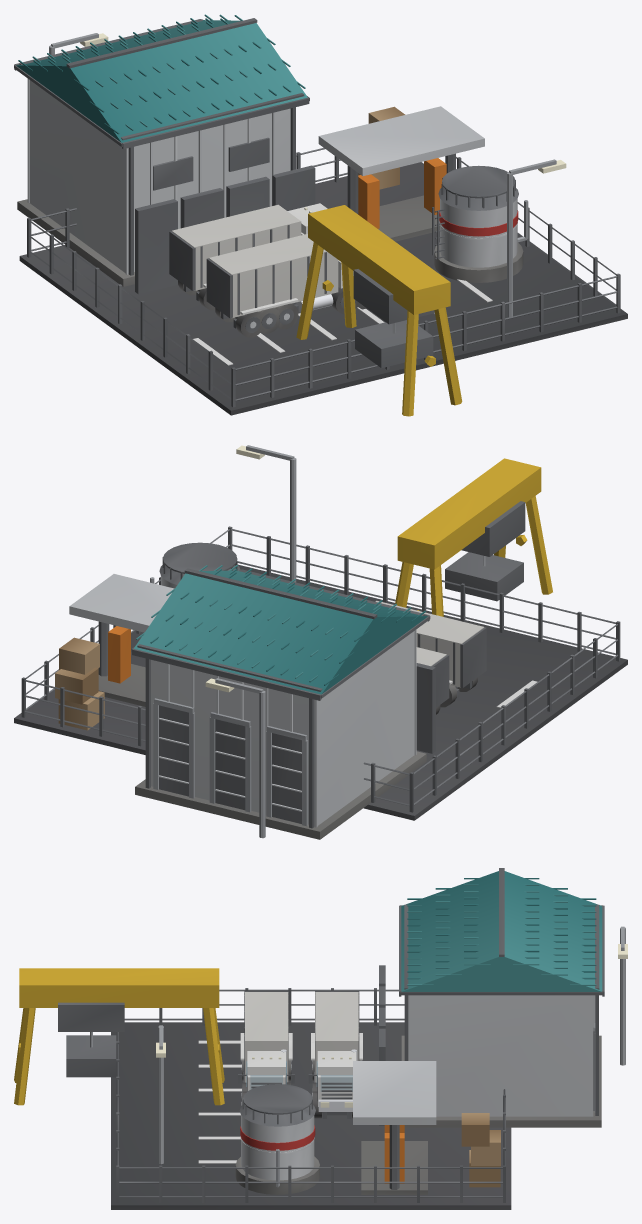
Rendered from Fleet_P3.fbx.
3 renders of one model, top to bottom at view 1: azimuth 30°, elevation 25°; view 2: azimuth 150°, elevation 25°; view 3: azimuth 270°, elevation 25°, orthographic. The views are drawn at different scales.
Parts seen in each view (by area): view 1: Fleet.Garage, Fleet.Yard, Fleet.WashGantry, Fleet.FuelIsland, Fleet.Parked0, Fleet.Fence, Fleet.FuelTank, Fleet.Doors, Fleet.Parked1, Fleet.Lamp1, Fleet.Bays, Fleet.Crates; view 2: Fleet.Garage, Fleet.Yard, Fleet.WashGantry, Fleet.Fence, Fleet.FuelIsland, Fleet.Parked0, Fleet.Crates, Fleet.FuelTank, Fleet.Doors, Fleet.Lamp0, Fleet.Lamp1, Fleet.Parked1; view 3: Fleet.Garage, Fleet.Yard, Fleet.WashGantry, Fleet.FuelIsland, Fleet.FuelTank, Fleet.Fence, Fleet.Parked1, Fleet.Parked0, Fleet.Crates, Fleet.Lamp1, Fleet.Lamp0, Fleet.Bays (+1 smaller).
Part boxes in pixels (<box>): Fleet.Garage: <box>14,14,309,286</box>; Fleet.Yard: <box>19,162,627,415</box>; Fleet.WashGantry: <box>296,205,462,416</box>; Fleet.FuelIsland: <box>318,106,484,241</box>; Fleet.Parked0: <box>206,234,367,337</box>; Fleet.Fence: <box>27,147,620,407</box>; Fleet.FuelTank: <box>432,165,528,282</box>; Fleet.Doors: <box>135,165,315,294</box>; Fleet.Parked1: <box>169,203,327,310</box>; Fleet.Lamp1: <box>507,159,566,317</box>; Fleet.Bays: <box>193,279,492,365</box>; Fleet.Crates: <box>358,106,405,189</box>; Fleet.Garage: <box>131,565,430,839</box>; Fleet.Yard: <box>14,564,627,820</box>; Fleet.WashGantry: <box>395,458,552,616</box>; Fleet.Fence: <box>21,526,620,812</box>; Fleet.FuelIsland: <box>69,574,174,706</box>; Fleet.Parked0: <box>375,600,486,707</box>; Fleet.Crates: <box>55,637,104,730</box>; Fleet.FuelTank: <box>150,542,240,588</box>; Fleet.Doors: <box>416,663,435,753</box>; Fleet.Lamp0: <box>205,678,265,838</box>; Fleet.Lamp1: <box>236,445,296,582</box>; Fleet.Parked1: <box>416,647,449,714</box>; Fleet.Garage: <box>399,868,604,1127</box>; Fleet.Yard: <box>111,1022,511,1209</box>; Fleet.WashGantry: <box>14,968,224,1105</box>; Fleet.FuelIsland: <box>353,1061,436,1194</box>; Fleet.FuelTank: <box>235,1084,319,1194</box>; Fleet.Fence: <box>116,988,505,1202</box>; Fleet.Parked1: <box>308,991,362,1118</box>; Fleet.Parked0: <box>238,991,294,1105</box>; Fleet.Crates: <box>461,1113,500,1187</box>; Fleet.Lamp1: <box>156,1025,165,1164</box>; Fleet.Lamp0: <box>618,926,627,1065</box>; Fleet.Bays: <box>198,1040,241,1163</box>.
Size of the model in its own units: 2600 by 1183 by 3682.
